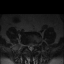CCS_normal: (30, 43, 32, 53)
LFS_severe_stenosis: (34, 43, 36, 48)
LLS_normal: (32, 43, 34, 51)
RFS_severe_stenosis: (26, 43, 27, 48)
RLS_normal: (27, 43, 30, 51)
